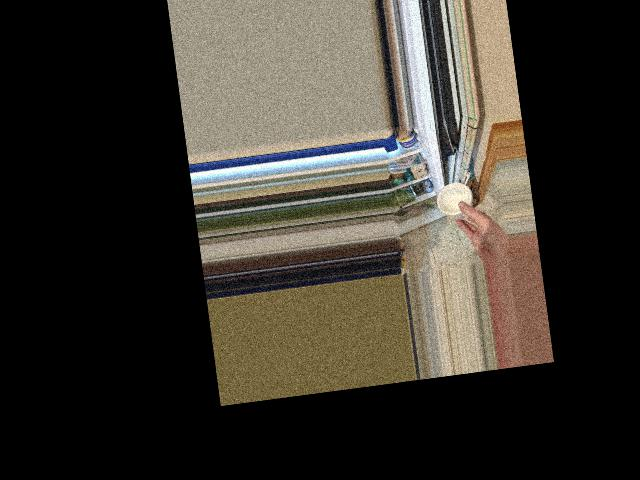cotage: (436, 175, 477, 224)
